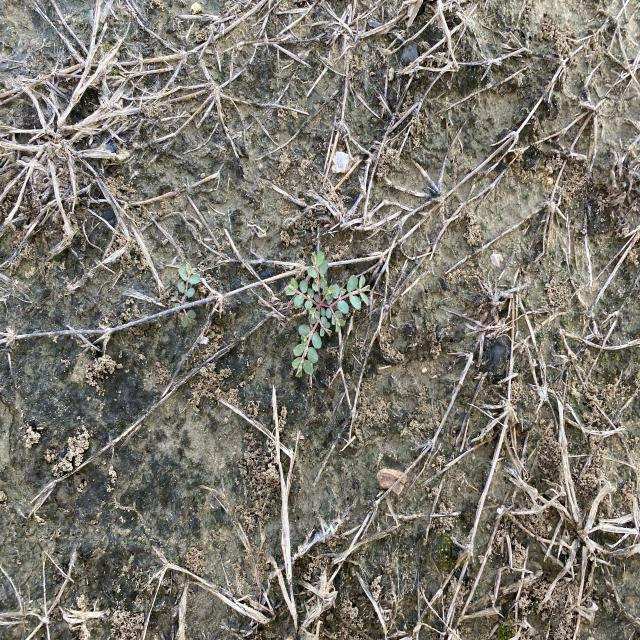SpottedSpurge: (284, 249, 373, 379), (168, 261, 203, 334)
